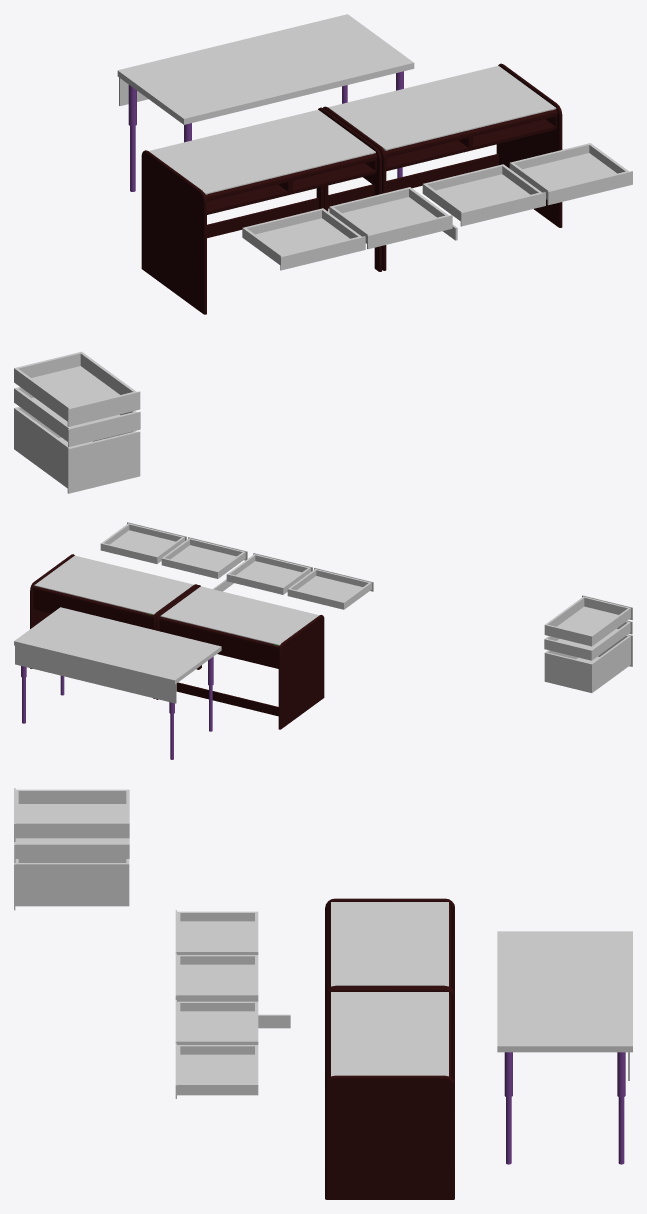
The model's file is All.fbx.
3 renders of one model, top to bottom at view 1: azimuth 30°, elevation 25°; view 2: azimuth 150°, elevation 25°; view 3: azimuth 270°, elevation 25°, orthographic. The views are drawn at different scales.
Parts seen in each view (by area): view 1: Table 6 5, Table 10, Drawer 2.002, Drawer 2, Table 6 4, Table 6, Table 6 1, Table 6 3, Drawer 2.001; view 2: Table 6 5, Table 10, Drawer 2.002, Drawer 2, Table 6 4, Table 6, Table 6 3, Table 6 1, Drawer 2.001; view 3: Table 6 5, Table 10, Drawer 2, Drawer 2.002, Table 6 3, Table 6 1, Table 6, Table 6 4, Drawer 2.001.
Part boxes in pixels (x1,y1,x2,y2): Table 6 5: (141,63,562,314); Table 10: (117,14,414,191); Drawer 2.002: (14,407,140,493); Drawer 2: (14,351,140,426); Table 6 4: (242,208,365,270); Table 6: (422,164,545,226); Table 6 1: (329,187,452,249); Table 6 3: (509,143,632,205); Drawer 2.001: (14,387,140,447); Table 6 5: (30,554,324,729); Table 10: (14,607,221,759); Drawer 2.002: (544,634,632,692); Drawer 2: (544,595,632,646); Table 6 4: (287,567,373,609); Table 6: (161,537,247,578); Table 6 3: (100,522,186,563); Table 6 1: (226,553,312,594); Drawer 2.001: (544,620,632,660); Table 6 5: (325,898,454,1199); Table 10: (497,931,632,1164); Drawer 2: (14,788,129,841); Drawer 2.002: (14,842,129,910); Table 6 3: (175,1043,258,1098); Table 6 1: (175,953,258,1001); Table 6: (175,1000,258,1044); Table 6 4: (175,910,258,954); Drawer 2.001: (14,838,129,862).
Size of the model in its own units: 562 by 100 by 456.
